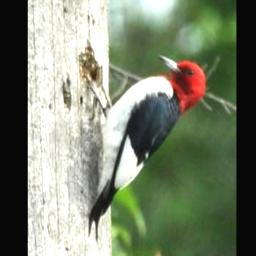Woodpecker: (90, 53, 207, 237)
